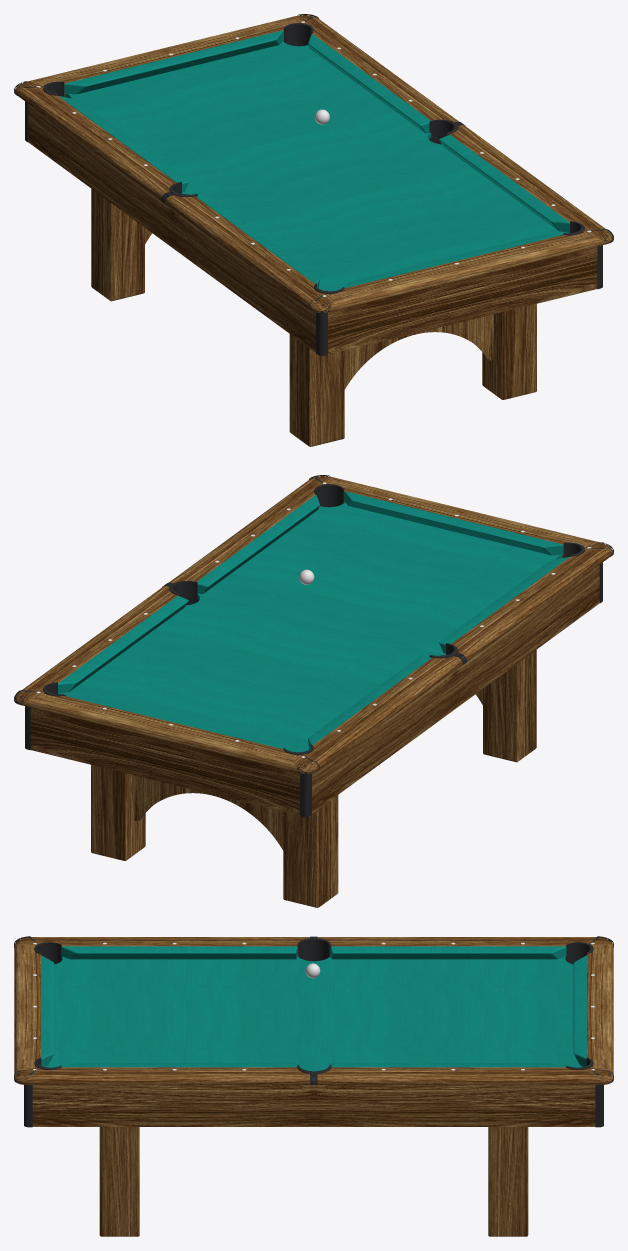
The model's file is table_default.glb.
3 renders of one model, top to bottom at view 1: azimuth 30°, elevation 25°; view 2: azimuth 150°, elevation 25°; view 3: azimuth 270°, elevation 25°, orthographic. The views are drawn at different scales.
Parts seen in each view (by area): view 1: slate, frame, legs, cushion_long, cushion_short, pocket_corner_holder, bevel_3, pocket_side_holder; view 2: slate, frame, legs, cushion_long, cushion_short, pocket_corner_holder, bevel_3, pocket_side_holder; view 3: slate, frame, legs, cushion_long, cushion_short, pocket_corner_holder, pocket_side_holder, bevel_3.
Part boxes in pixels (x1,y1,x2,y2): slate: [65, 41, 569, 291]; frame: [15, 15, 612, 354]; legs: [91, 189, 536, 446]; cushion_long: [58, 34, 569, 288]; cushion_short: [64, 30, 560, 287]; pocket_corner_holder: [43, 23, 584, 293]; bevel_3: [25, 101, 602, 355]; pocket_side_holder: [169, 119, 458, 196]; slate: [58, 502, 562, 752]; frame: [15, 476, 612, 815]; legs: [91, 650, 536, 907]; cushion_long: [58, 495, 569, 749]; cushion_short: [67, 491, 563, 748]; pocket_corner_holder: [43, 484, 584, 754]; bevel_3: [25, 562, 602, 816]; pocket_side_holder: [169, 581, 458, 658]; slate: [45, 956, 582, 1071]; frame: [14, 937, 613, 1126]; legs: [99, 1127, 528, 1236]; cushion_long: [61, 946, 566, 1067]; cushion_short: [41, 955, 586, 1066]; pocket_corner_holder: [34, 942, 593, 1069]; pocket_side_holder: [297, 938, 331, 1073]; bevel_3: [24, 1085, 603, 1127].
Bounding box in the file's own units: 1.3 × 0.9366 × 2.29.
6 materials, 4 textured.
